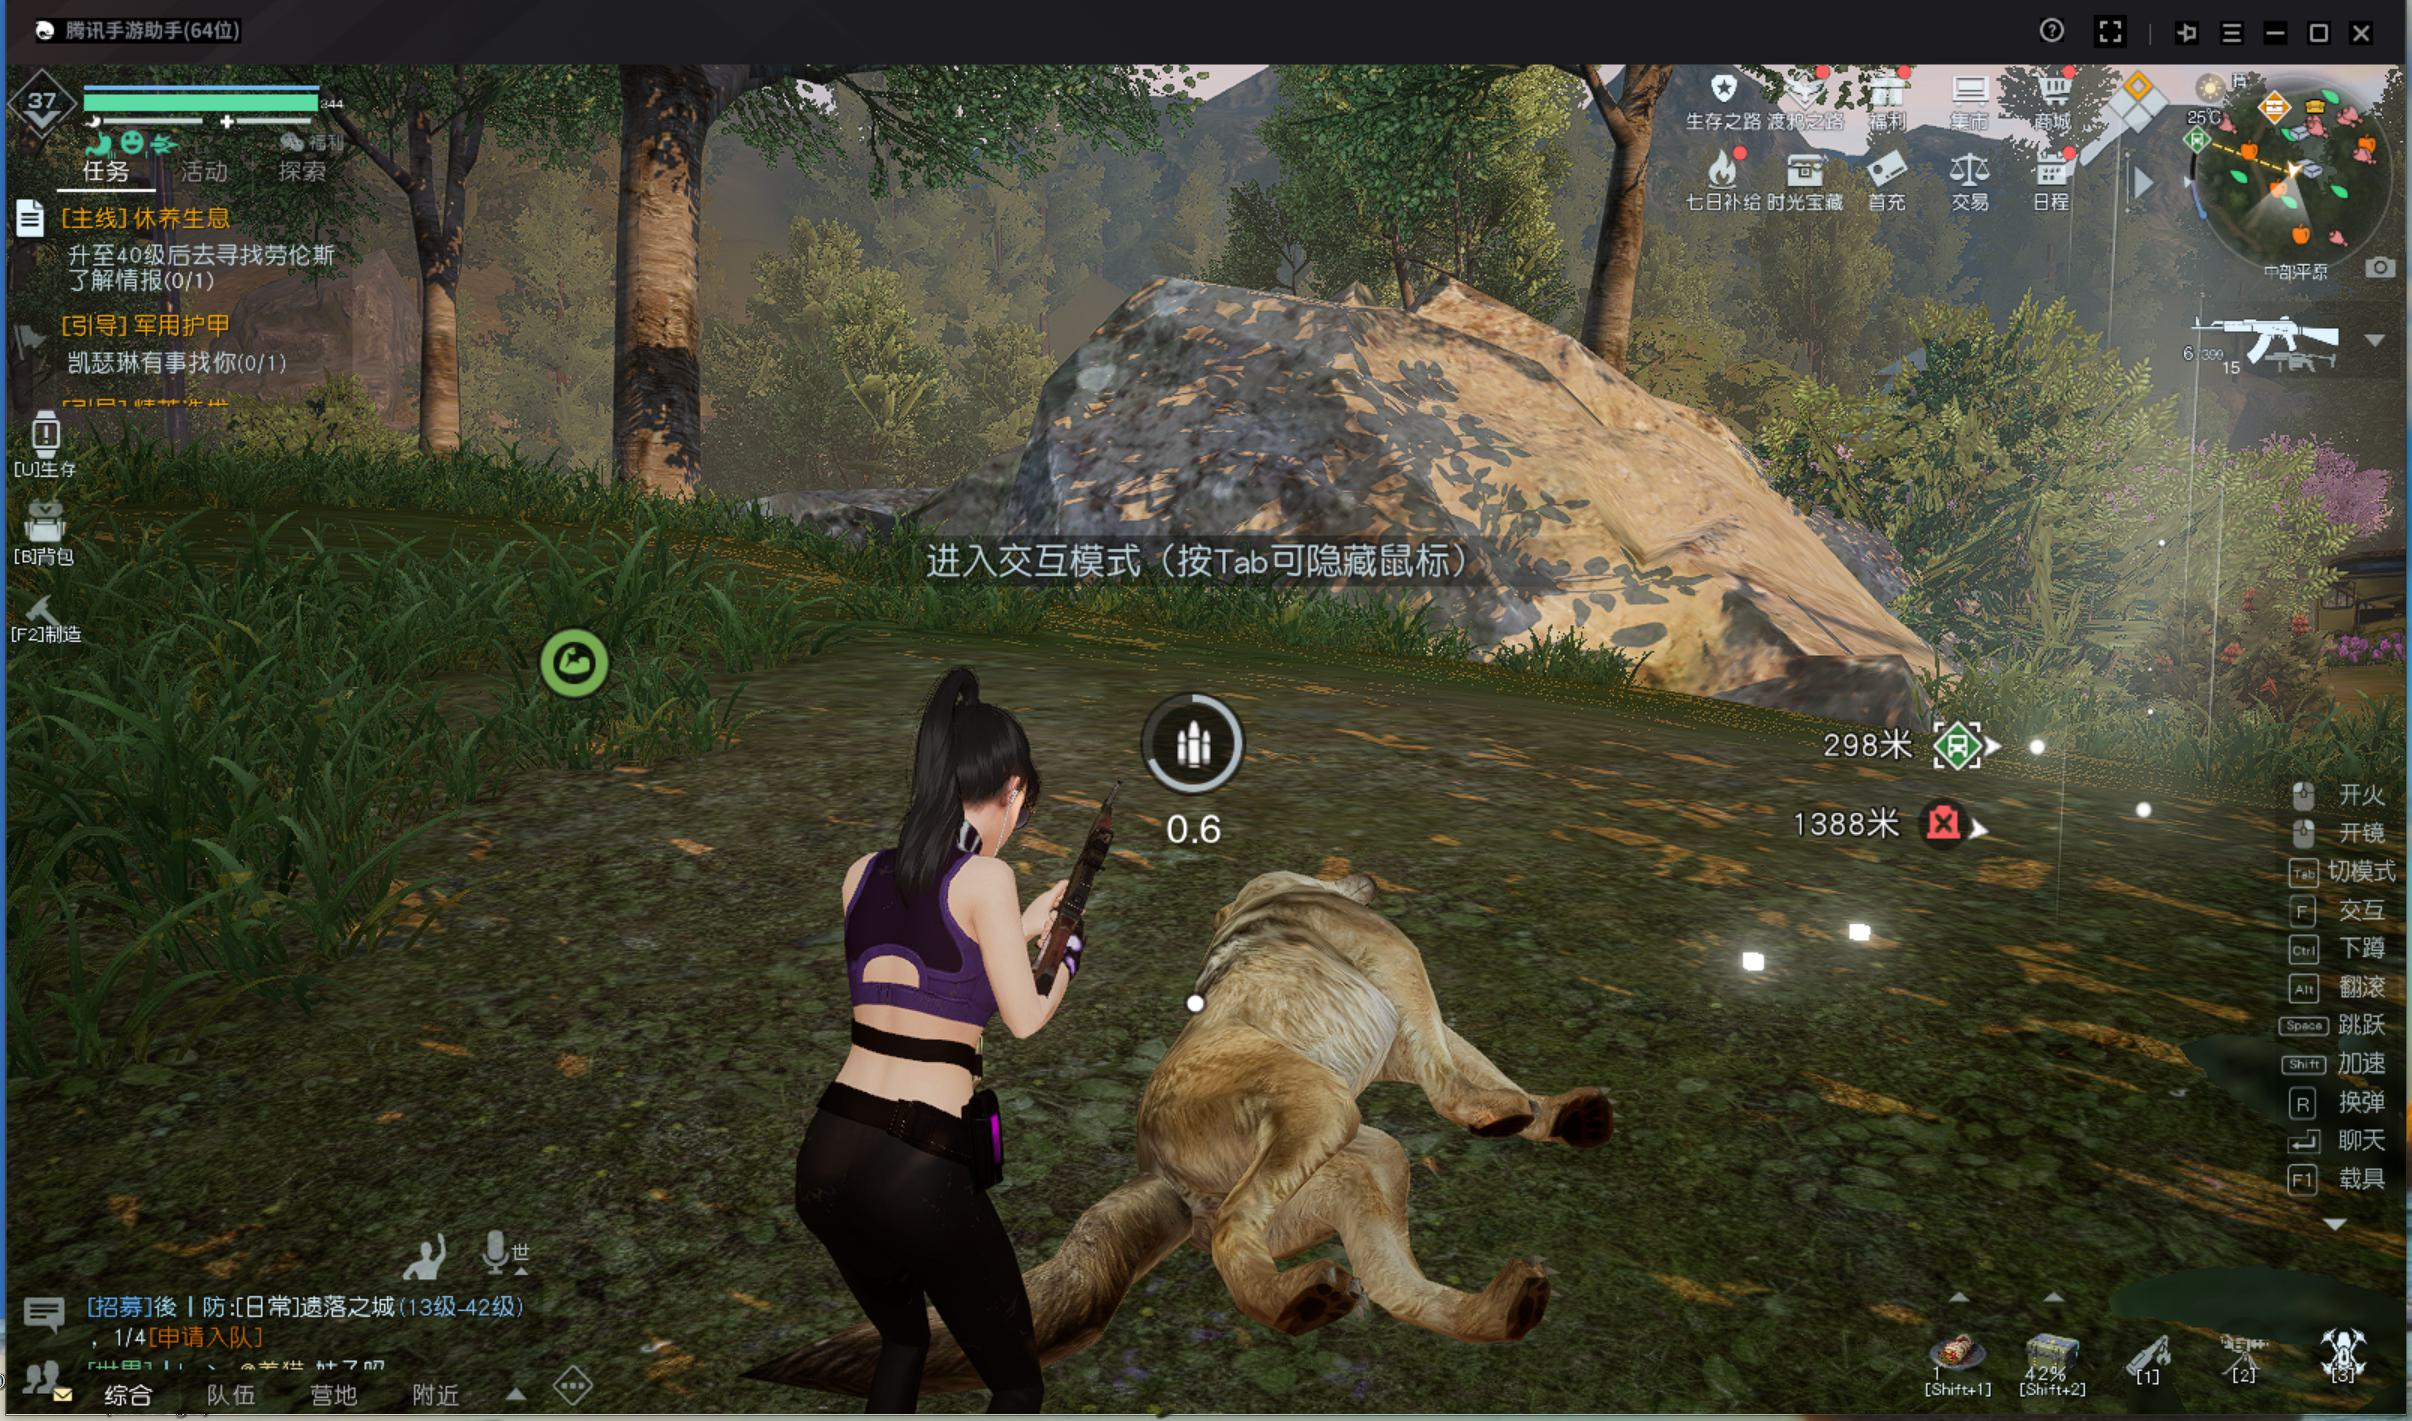tree: (595, 159, 729, 536), (1587, 127, 1661, 392), (399, 232, 479, 469)
